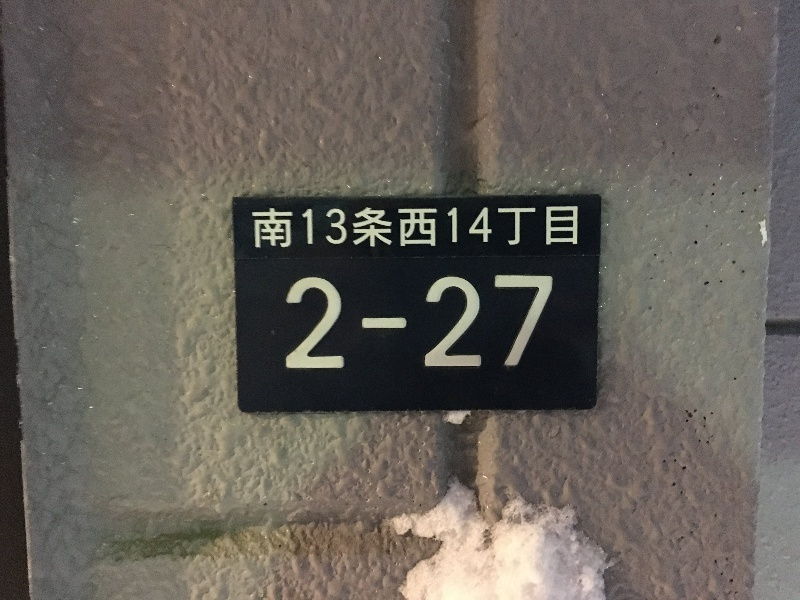text: (289, 274, 304, 370), (305, 274, 320, 370), (321, 274, 336, 370), (337, 274, 352, 370), (353, 274, 368, 370), (369, 274, 384, 370), (385, 274, 400, 370), (401, 274, 416, 370), (417, 274, 432, 370), (433, 274, 448, 370), (449, 274, 464, 370), (465, 274, 480, 370), (481, 274, 496, 370), (497, 274, 512, 370), (513, 274, 528, 370), (529, 274, 544, 370), (545, 274, 553, 370), (257, 206, 272, 249), (273, 206, 288, 249), (289, 206, 304, 249), (305, 206, 320, 249), (321, 206, 336, 249), (337, 206, 352, 249), (353, 206, 368, 249), (369, 206, 384, 249), (385, 206, 400, 249), (401, 206, 416, 249), (417, 206, 432, 249), (433, 206, 448, 249), (449, 206, 464, 249), (465, 206, 480, 249), (481, 206, 496, 249), (497, 206, 512, 249), (513, 206, 528, 249), (529, 206, 544, 249), (545, 206, 560, 249), (561, 206, 576, 249), (284, 274, 288, 370), (251, 206, 256, 249), (577, 206, 581, 249)
